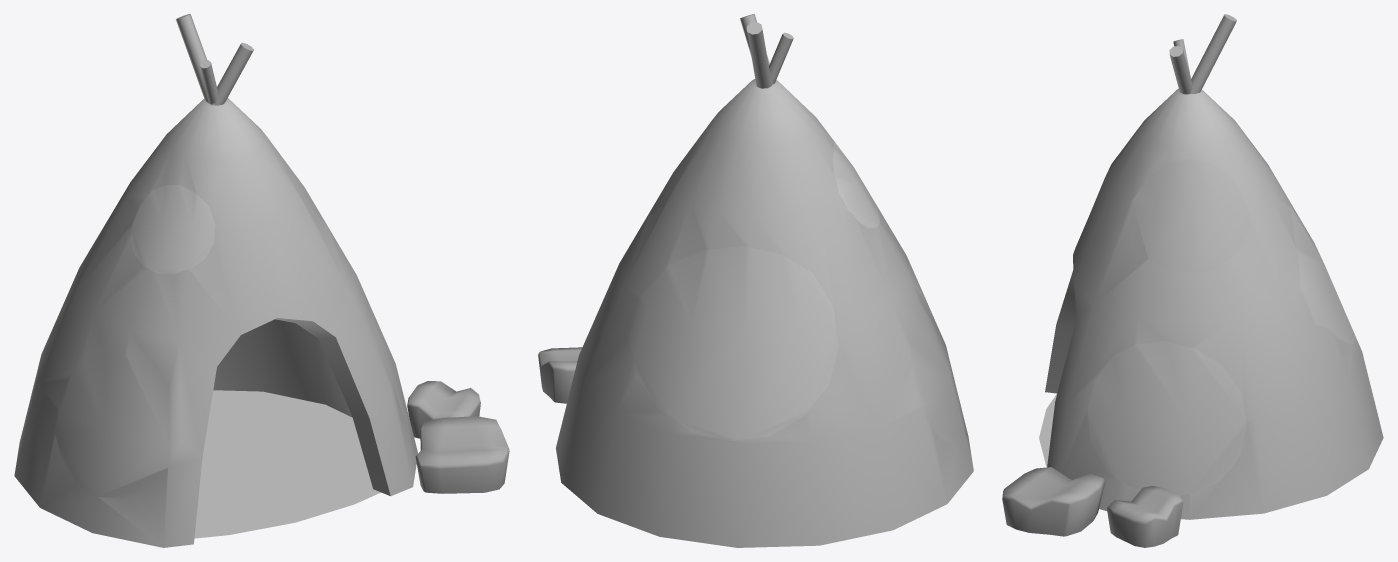
File: Archerbarrack_lvl1.fbx
3 renders of one model, left to right at view 1: azimuth 30°, elevation 25°; view 2: azimuth 150°, elevation 25°; view 3: azimuth 270°, elevation 25°, orthographic. The views are drawn at different scales.
Parts seen in each view (by area): view 1: Lvl1_ArcherBarrack; view 2: Lvl1_ArcherBarrack; view 3: Lvl1_ArcherBarrack.
Boxes of the visible parts, x1,y1,x2,y2 form: Lvl1_ArcherBarrack: (14, 14, 509, 547); Lvl1_ArcherBarrack: (538, 14, 973, 547); Lvl1_ArcherBarrack: (1002, 14, 1383, 547).
Bounding box in the file's own units: 2.52 × 2.54 × 2.1.
